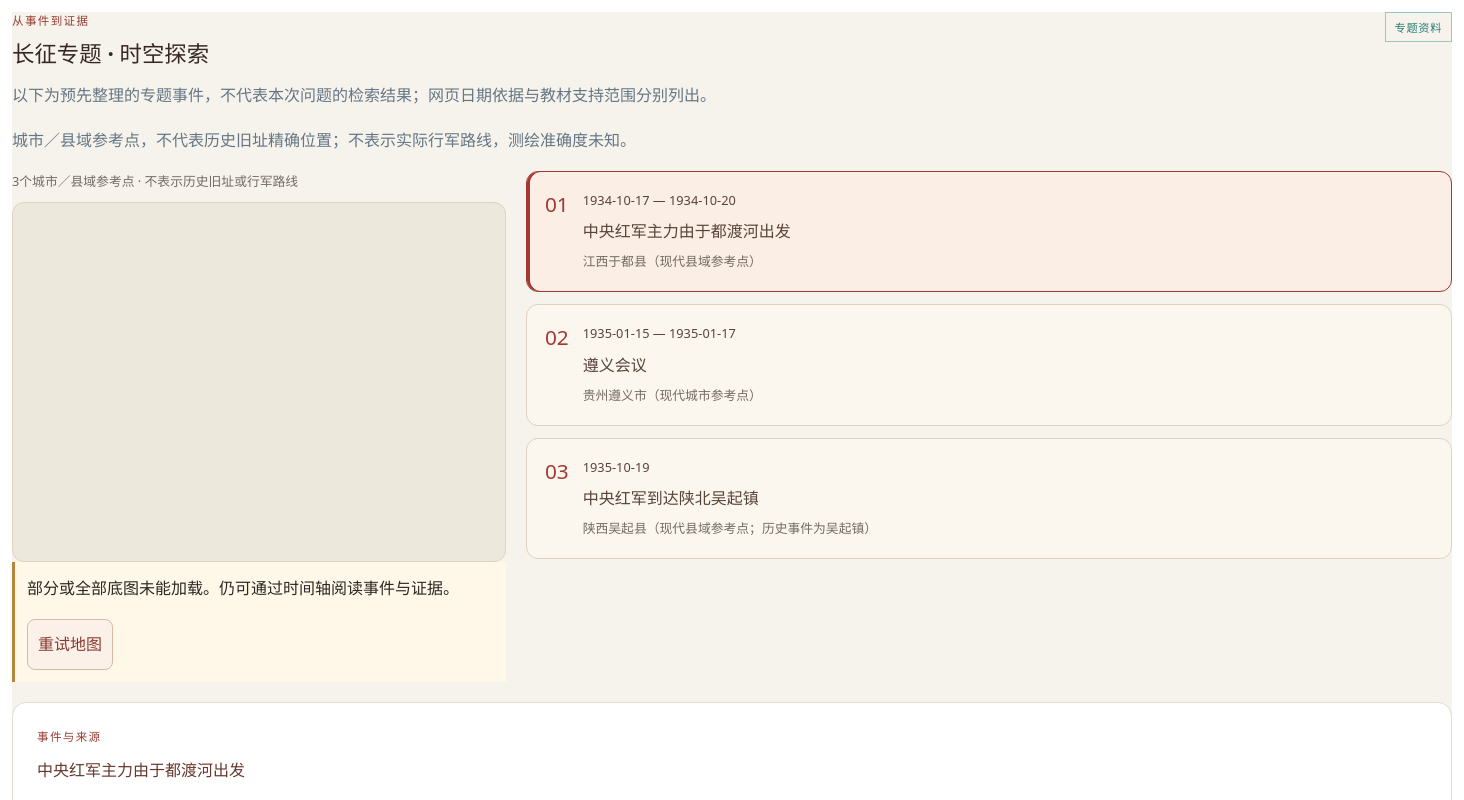
Test: TopicTimelineView › isolates tile errors, keeps event detail and supports map recreation
Earlier steps of the test are not shown.
expect the message shows "底图未能加载": met, box [27,577,219,599]
Click the button "重试地图" at (70, 645), box [27,619,113,670]
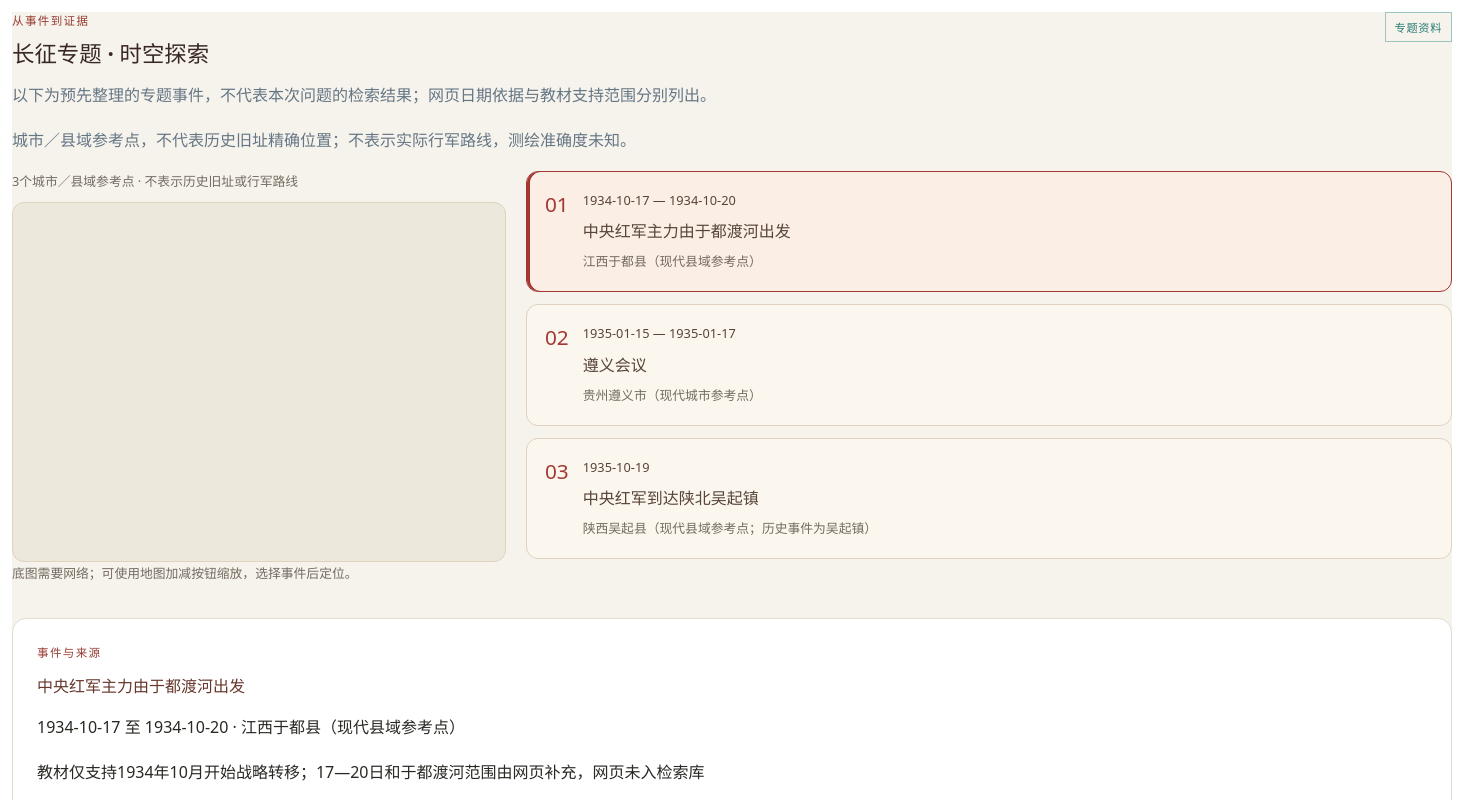
expect the message "部分或全部底图未能加载。仍可通过时间轴阅读事件与证据。 重试地图" is gone: met
